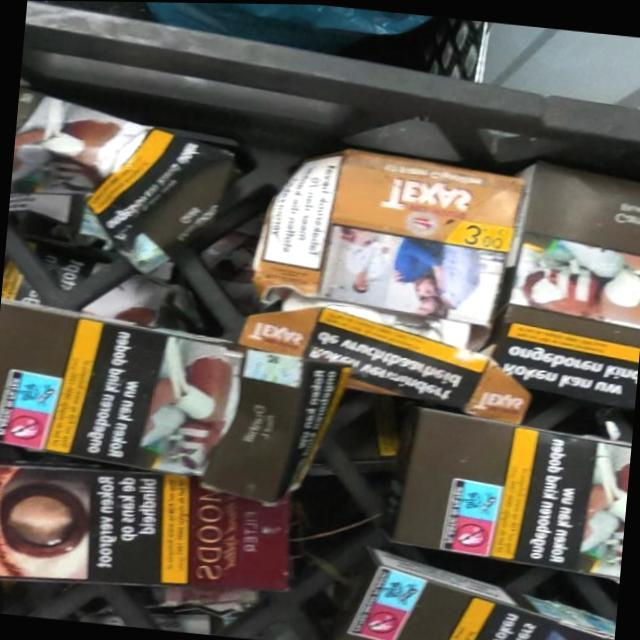Paper: (0, 293, 356, 509), (248, 138, 536, 403), (0, 452, 302, 612), (373, 398, 633, 578), (4, 82, 240, 280), (489, 152, 640, 408), (336, 542, 620, 640)
